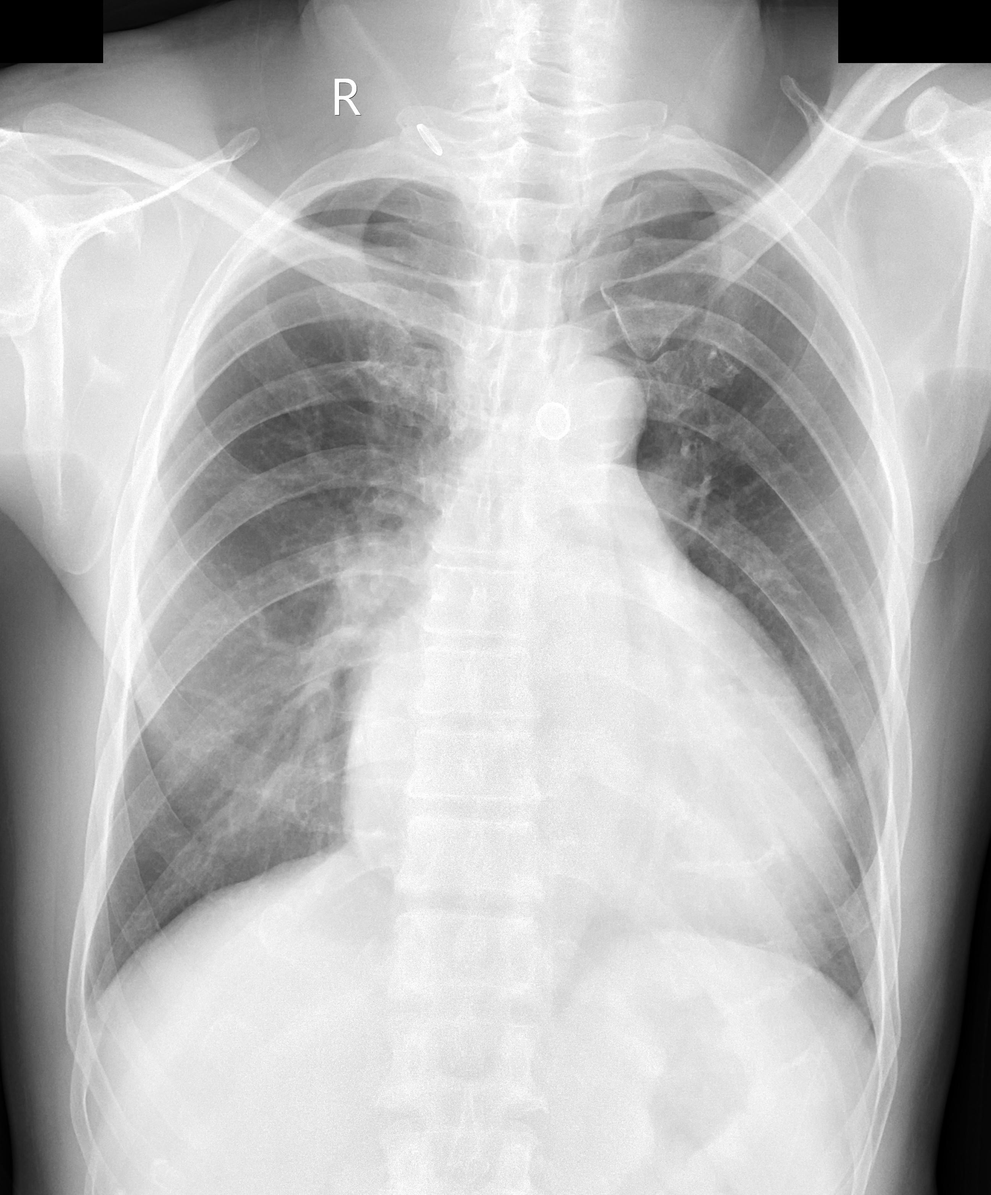Cardiomegaly: (337, 661, 852, 948)
